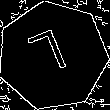L_S: (29, 26, 77, 85)
